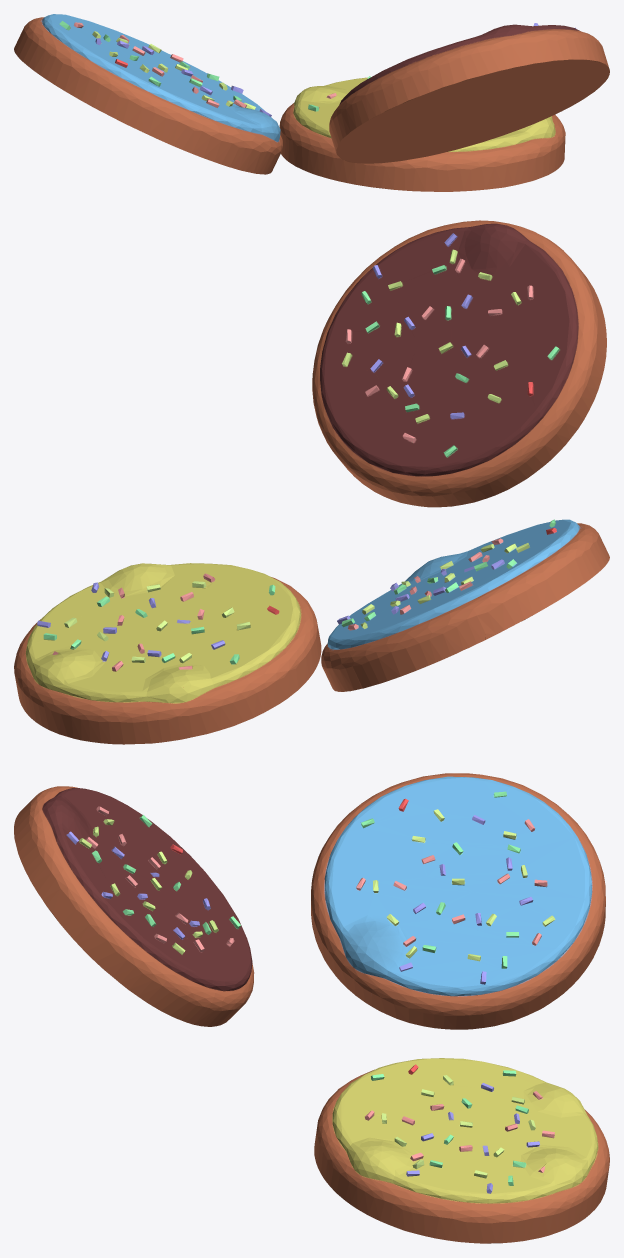
File: Cookies.obj
3 renders of one model, top to bottom at view 1: azimuth 30°, elevation 25°; view 2: azimuth 150°, elevation 25°; view 3: azimuth 270°, elevation 25°, orthographic. The views are drawn at different scales.
Visible parts, largest first — view 1: model_0, model_2, model_1; view 2: model_0, model_1, model_2; view 3: model_2, model_1, model_0.
Boxes of the visible parts, left/top/right/bottom form: model_0: left=329, top=23, right=609, bottom=163; model_2: left=14, top=14, right=282, bottom=174; model_1: left=279, top=77, right=565, bottom=191; model_0: left=312, top=220, right=606, bottom=507; model_1: left=14, top=563, right=321, bottom=744; model_2: left=321, top=519, right=609, bottom=691; model_2: left=311, top=773, right=605, bottom=1029; model_1: left=314, top=1058, right=609, bottom=1243; model_0: left=14, top=786, right=254, bottom=1026.
Size of the model in its own units: 321 by 190 by 314.
3 materials, 3 textured.
